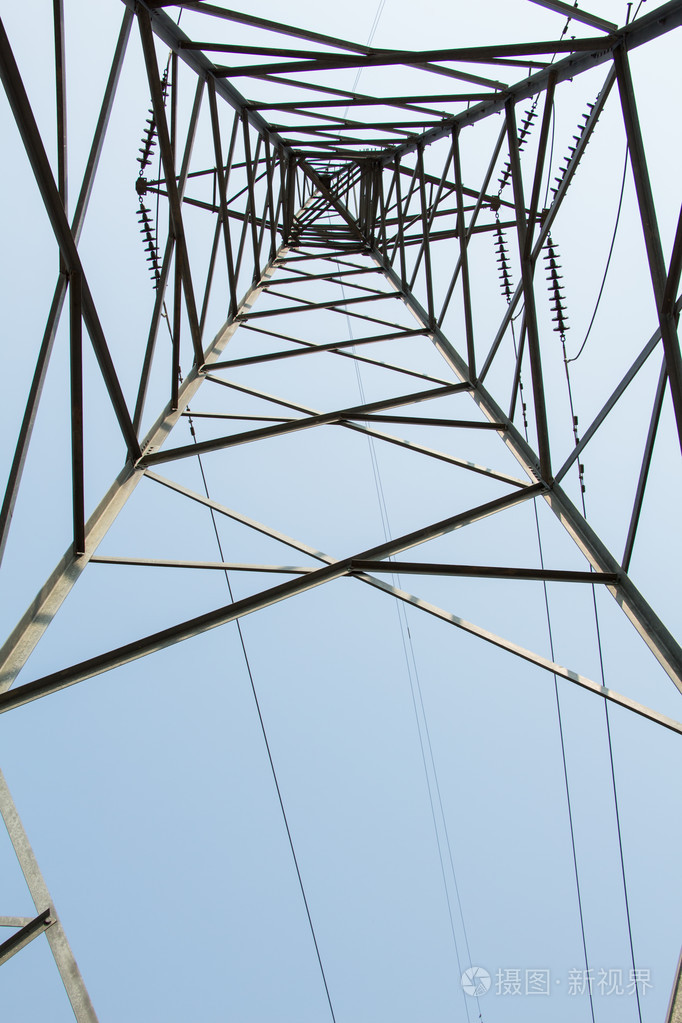insulator: (541, 238, 574, 332), (141, 75, 173, 168), (133, 205, 162, 288), (501, 110, 531, 186), (492, 231, 518, 297)
